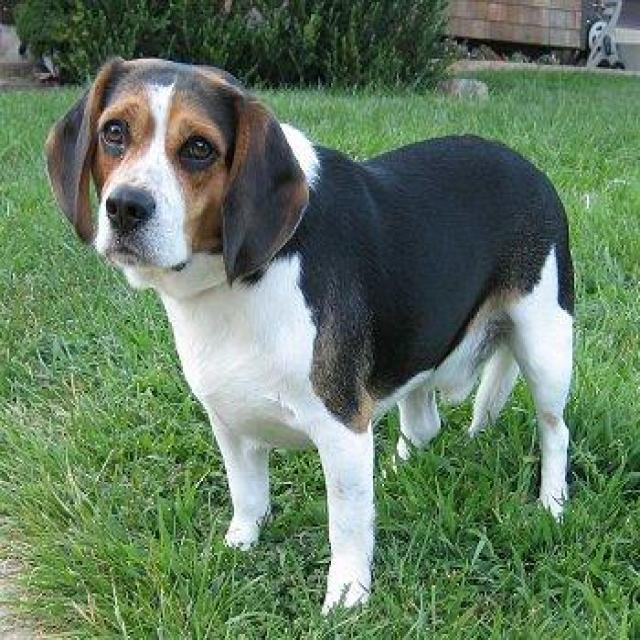beagle: (40, 54, 578, 612)
